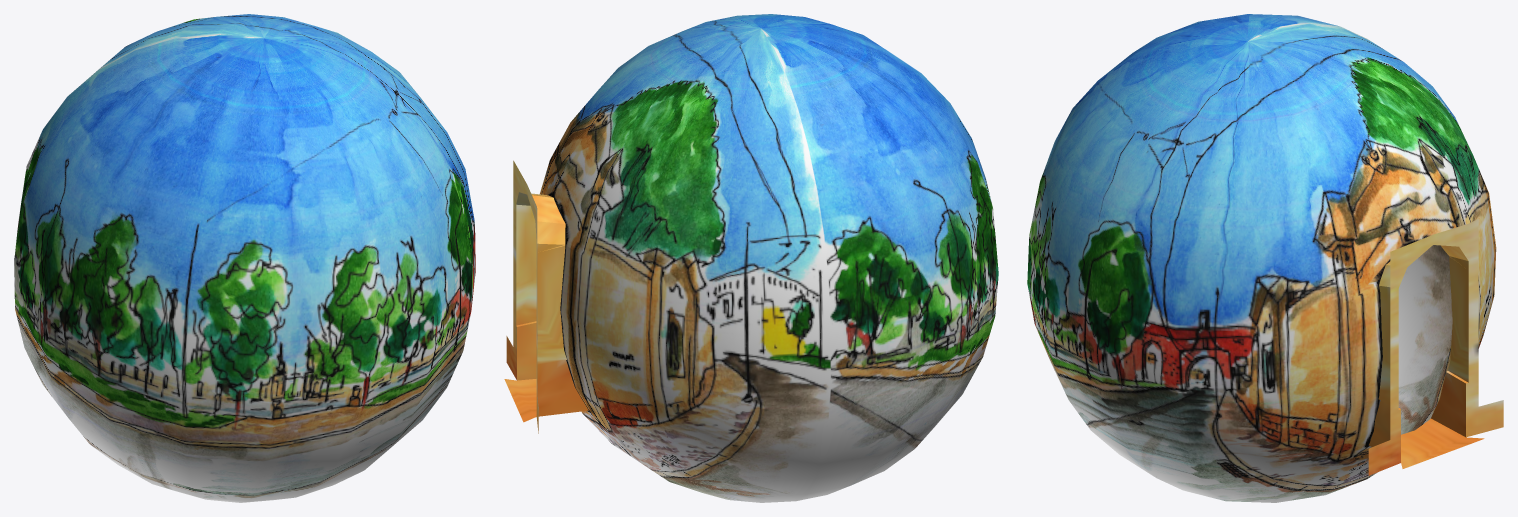
File: e-Entrada360.glb
3 views of the same model, side by side, from view 1: azimuth 30°, elevation 25°; view 2: azimuth 150°, elevation 25°; view 3: azimuth 270°, elevation 25° (orthographic).
Parts seen in each view (by area): view 1: Entrada360-01.002; view 2: Entrada360-01.002; view 3: Entrada360-01.002.
Part boxes in pixels (x1=…): Entrada360-01.002: x1=14, y1=14, x2=475, y2=502; Entrada360-01.002: x1=504, y1=14, x2=998, y2=502; Entrada360-01.002: x1=1027, y1=14, x2=1503, y2=502.
Size of the model in its own units: 8.71 by 9.04 by 8.74.
Materials: 1 (1 with a texture image).
